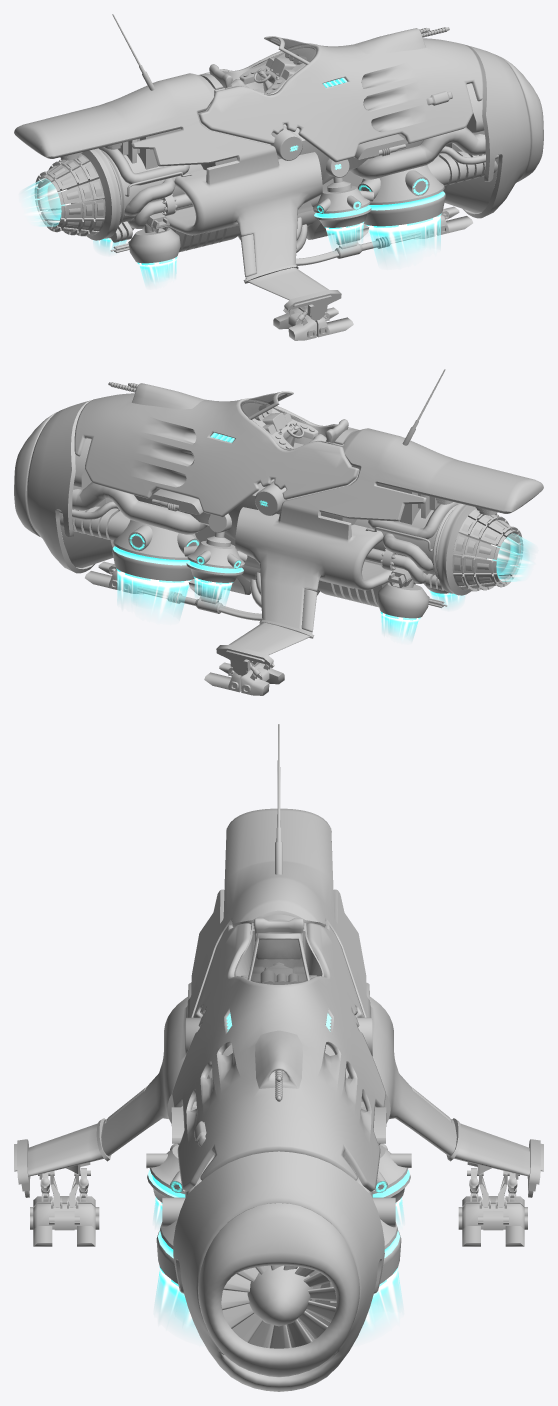
The picture shows the model from 3 angles, top to bottom: view 1: azimuth 30°, elevation 25°; view 2: azimuth 150°, elevation 25°; view 3: azimuth 270°, elevation 25°; orthographic projection. The views are drawn at different scales.
Parts seen in each view (by area): view 1: back_low (×2), front2_low, vray3; view 2: back_low (×2), front2_low, vray3; view 3: back_low (×2), front2_low, vray3.
Part boxes in pixels (x1,y1,x2,y2): back_low (×2): (14,27,485,300); front2_low: (107,14,543,340); vray3: (22,178,440,285); back_low (×2): (72,382,543,655); front2_low: (14,369,451,695); vray3: (117,533,533,640); back_low (×2): (28,808,529,1197); front2_low: (14,724,543,1391); vray3: (153,1198,403,1334).
Bounding box in the file's own units: 2.01 × 1.15 × 1.27.
